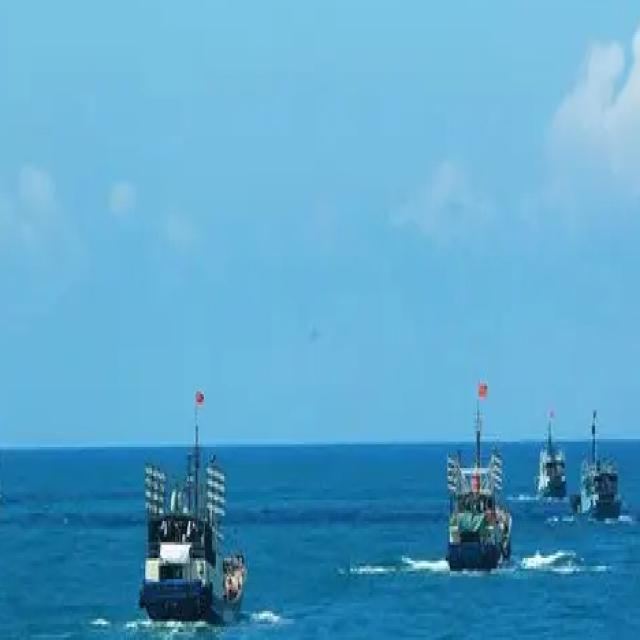fishing boat: (141, 382, 246, 622), (444, 378, 513, 572), (575, 408, 623, 521), (535, 401, 569, 496)
